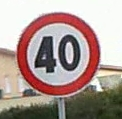limite 40: (17, 11, 100, 99)
